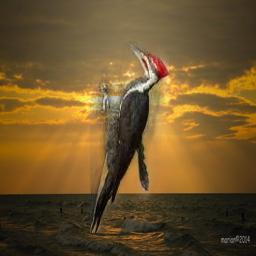Woodpecker: (91, 41, 170, 233)
